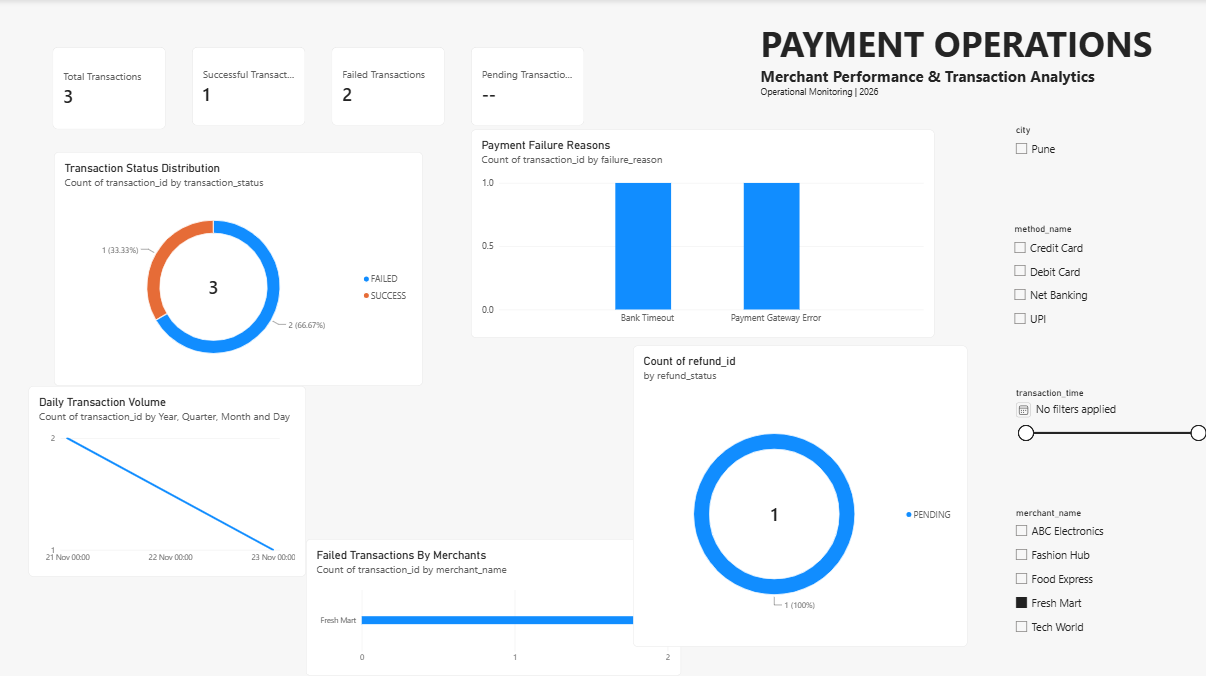

Layout of this report page (visuals, bound fields, positions):
{"tool":"powerbi","page":{"name":"Page 1","canvas":[1920,1080],"ordinal":0},"visuals":[{"type":"cardVisual","fields":{"Data":["public transactions.Total Transactions"]},"box":[83.8,77.5,180,131],"z":0},{"type":"cardVisual","fields":{"Data":["public transactions.Pending Transactions"]},"box":[750,77.5,180,125],"z":1000},{"type":"cardVisual","fields":{"Data":["public transactions.Successful Transactions"]},"box":[305,77.5,180,125],"z":2000},{"type":"cardVisual","fields":{"Data":["public transactions.Failed Transactions"]},"box":[526.2,77.5,180,125],"z":3000},{"type":"donutChart","title":"Transaction Status Distribution","fields":{"Category":["public transactions.transaction_status"],"Y":["CountNonNull(public transactions.transaction_id)"]},"box":[85.9,243.4,586.9,372.2],"z":4000},{"type":"lineChart","title":"Daily Transaction Volume","fields":{"Category":["public transactions.transaction_time.Variation.Date Hierarchy.Year","public transactions.transaction_time.Variation.Date Hierarchy.Quarter","public transactions.transaction_time.Variation.Date Hierarchy.Month","public transactions.transaction_time.Variation.Date Hierarchy.Day"],"Y":["CountNonNull(public transactions.transaction_id)"]},"box":[45.3,615.6,441.4,303],"z":5000},{"type":"clusteredBarChart","title":"Failed Transactions By Merchants","fields":{"Category":["public merchants.merchant_name"],"Y":["CountNonNull(public transactions.transaction_id)"]},"box":[486.7,858.9,596.5,219.5],"z":6000},{"type":"clusteredColumnChart","title":"Payment Failure Reasons","fields":{"Category":["public transactions.failure_reason"],"Y":["CountNonNull(public transactions.transaction_id)"]},"box":[749.2,207.6,737.2,331.6],"z":7000},{"type":"donutChart","fields":{"Category":["public refunds.refund_status"],"Y":["CountNonNull(public refunds.refund_id)"]},"box":[1083.2,539.2,532.1,479.6],"z":8000},{"type":"slicer","fields":{"Values":["public merchants.merchant_name"]},"box":[1608.1,808.8,314,221],"z":9000},{"type":"slicer","fields":{"Values":["public merchants.city"]},"box":[1608.1,200.4,314.9,157.5],"z":10000},{"type":"slicer","fields":{"Values":["public payment_methods.method_name"]},"box":[1605.7,357.9,314,299],"z":11000},{"type":"slicer","fields":{"Values":["public transactions.transaction_time"]},"box":[1608.1,618,314,221],"z":12000},{"type":"textbox","box":[1210,30,710,212.5],"z":13000}]}

Visuals, with their boxes in screenshot pixels (x1, y1, x2, y2), scaled from the page's 1920x1080 canvas onto the 1206x676 screenshot:
cardVisual - public transactions.Total Transactions: 53:49:166:131
cardVisual - public transactions.Pending Transactions: 471:49:584:127
cardVisual - public transactions.Successful Transactions: 192:49:305:127
cardVisual - public transactions.Failed Transactions: 331:49:444:127
"Transaction Status Distribution" donutChart: 54:152:423:385
"Daily Transaction Volume" lineChart: 28:385:306:575
"Failed Transactions By Merchants" clusteredBarChart: 306:538:680:675
"Payment Failure Reasons" clusteredColumnChart: 471:130:934:337
donutChart - public refunds.refund_status x CountNonNull(public refunds.refund_id): 680:337:1015:638
slicer - public merchants.merchant_name: 1010:506:1205:645
slicer - public merchants.city: 1010:125:1205:224
slicer - public payment_methods.method_name: 1009:224:1205:411
slicer - public transactions.transaction_time: 1010:387:1205:525
textbox: 760:19:1205:152
